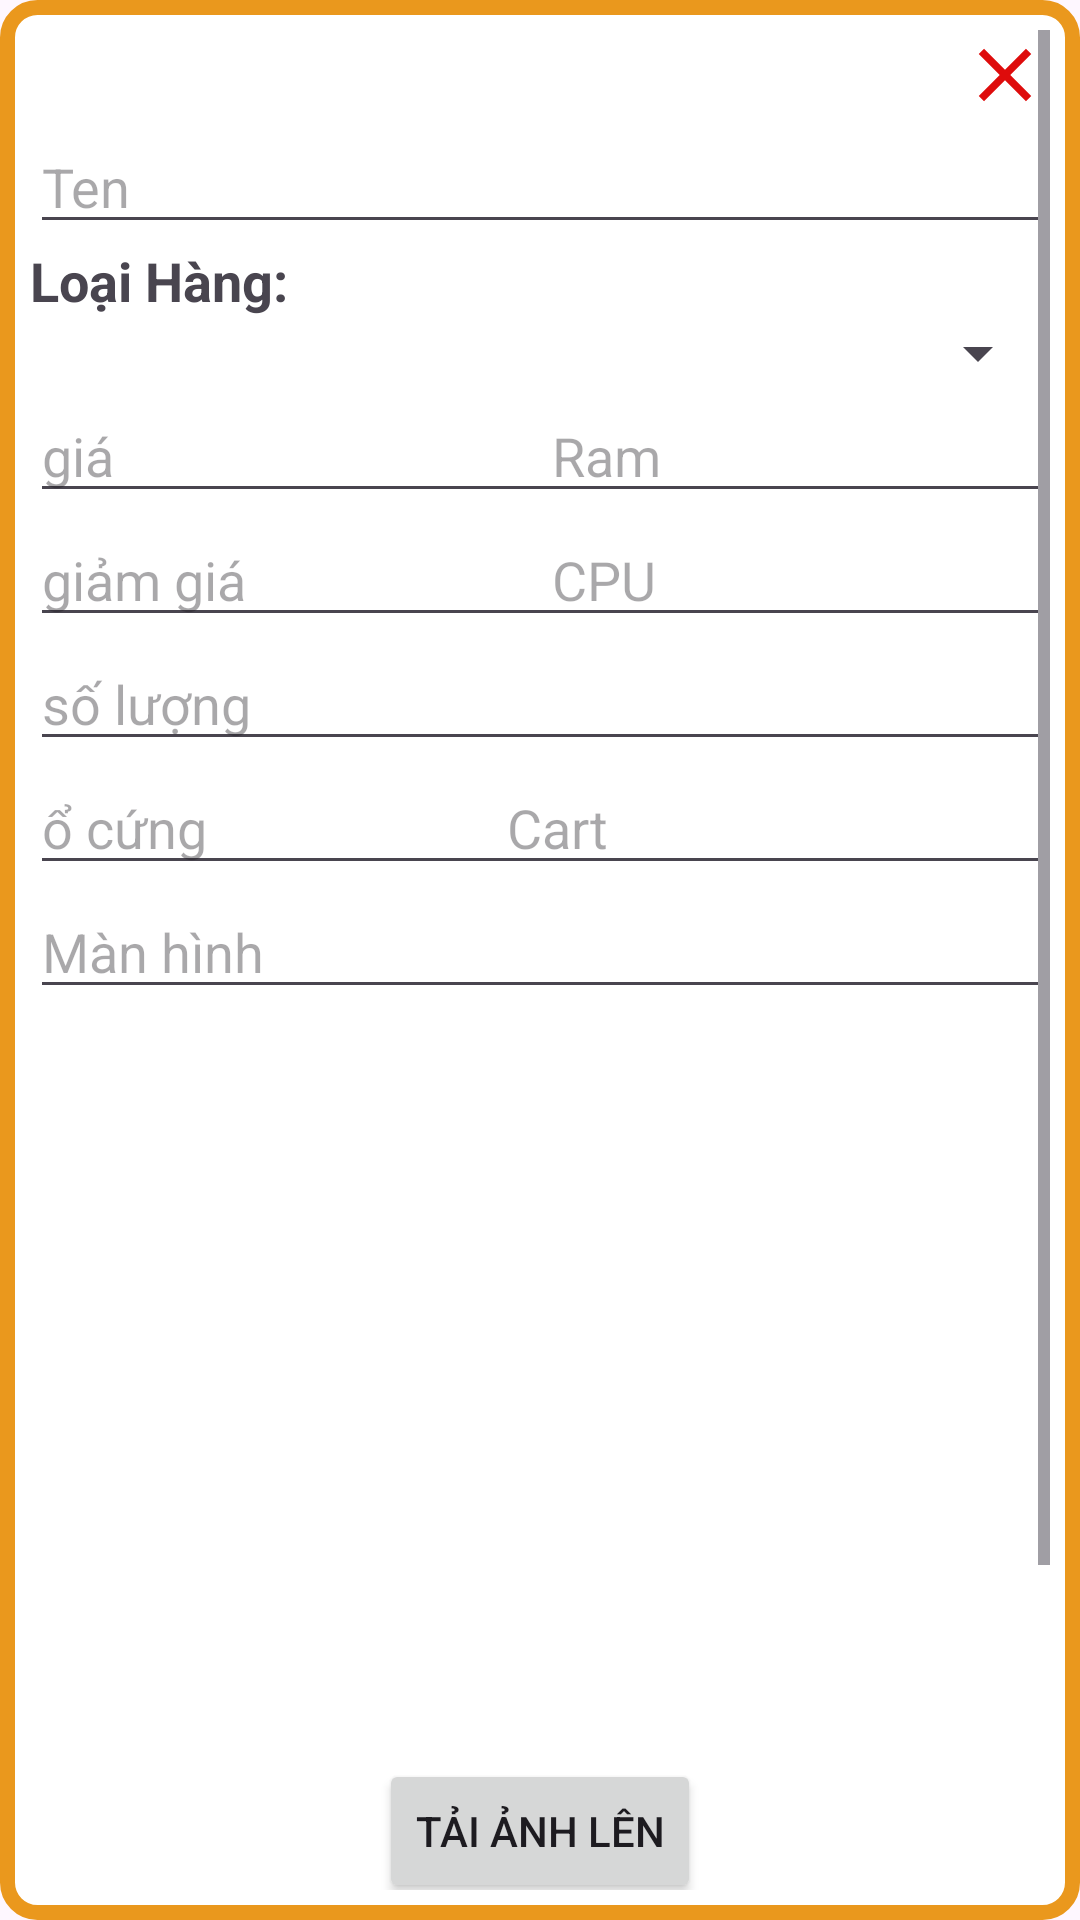

Where to tap for icons on this 1080*1920 app screen, as [x,y]:
close: [1014,75]
